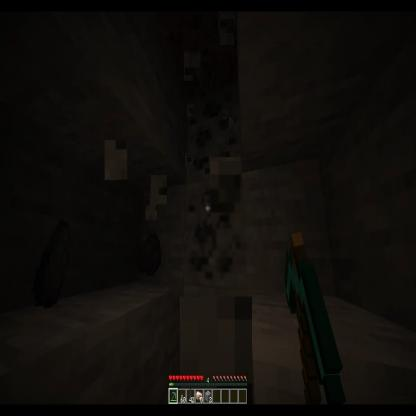coal ore: (184, 178, 250, 291)
